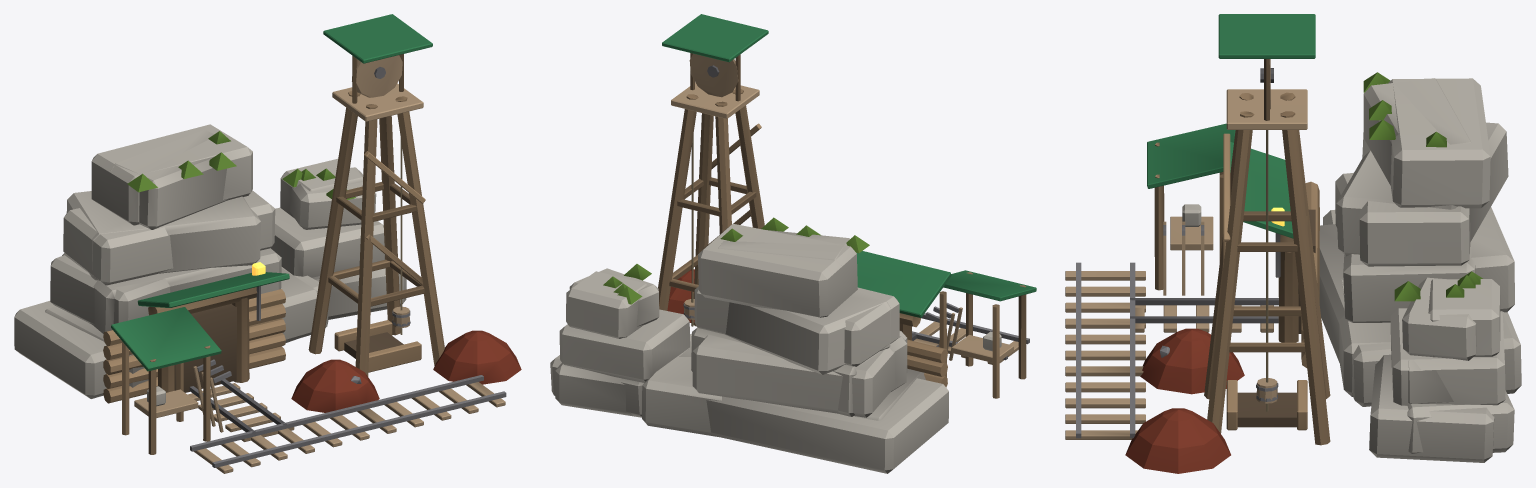
The model's file is bld_rudnik_e2.glb.
3 views of the same model, side by side, from view 1: azimuth 30°, elevation 25°; view 2: azimuth 150°, elevation 25°; view 3: azimuth 270°, elevation 25° (orthographic). The views are drawn at different scales.
Parts seen in each view (by area): view 1: rudnik; view 2: rudnik; view 3: rudnik.
Boxes of the visible parts, box(x1,y1,x2,y2) form: rudnik: box(14, 14, 521, 473); rudnik: box(550, 14, 1036, 473); rudnik: box(1065, 14, 1521, 473).
Size of the model in its own units: 1.96 by 1.59 by 1.7.
